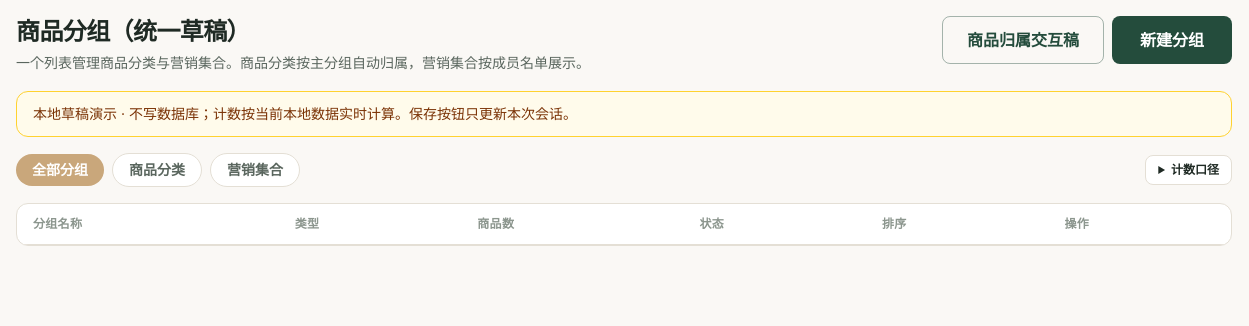
Test: UnifiedGroupsDraft › switches tabs between all groups, categories and marketing collections
The image size is (1249, 326).
Expected: the heading "商品分组（统一草稿）" is shown, [16,17,250,46]
Click the button "营销集合": click(255, 170) [210,153,300,187]
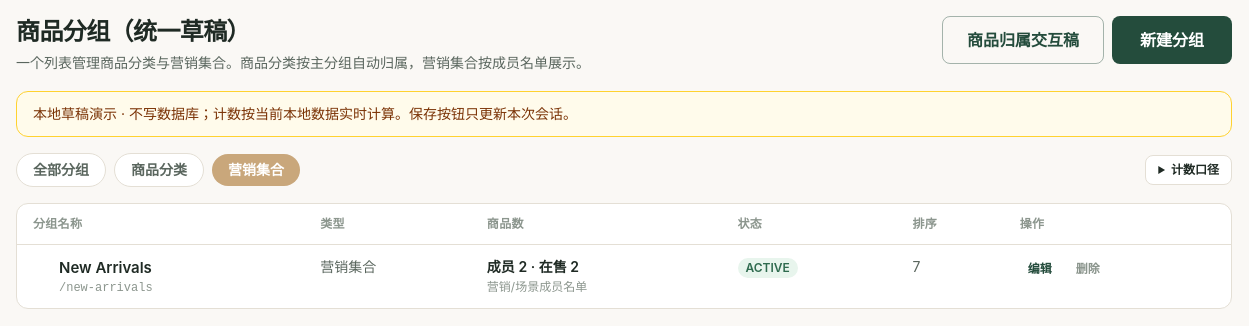
Expected: the text "Storage & Organization" is not shown
Expected: the text "New Arrivals" is shown, [59,257,152,278]
Click the button "商品分类": click(159, 170) [114,153,204,187]
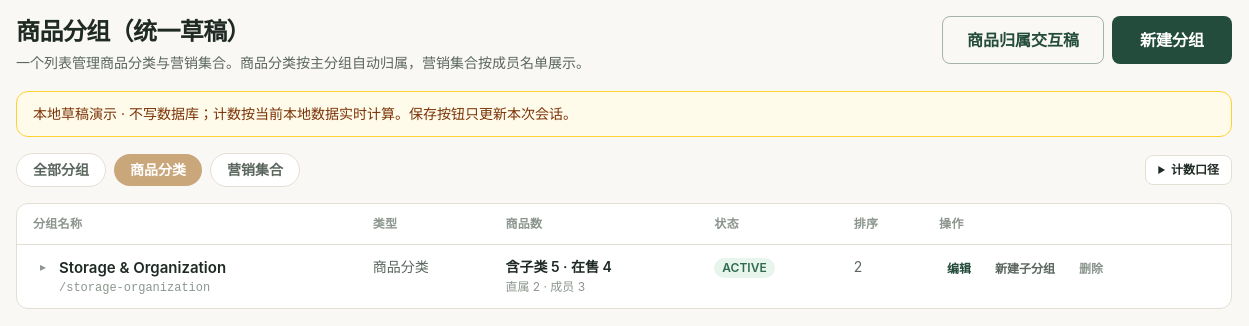
Expected: the text "Storage & Organization" is shown, [59,257,226,278]
Expected: the text "New Arrivals" is gone
